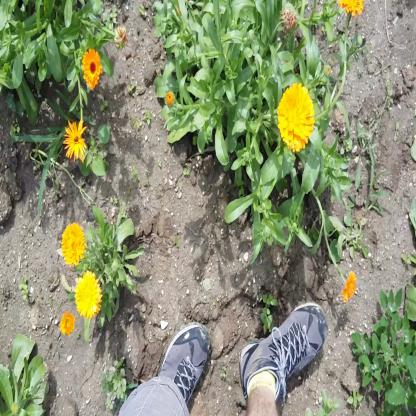marigold: (278, 84, 315, 150), (75, 272, 99, 320), (60, 225, 84, 266), (63, 118, 86, 158), (80, 50, 99, 86)
